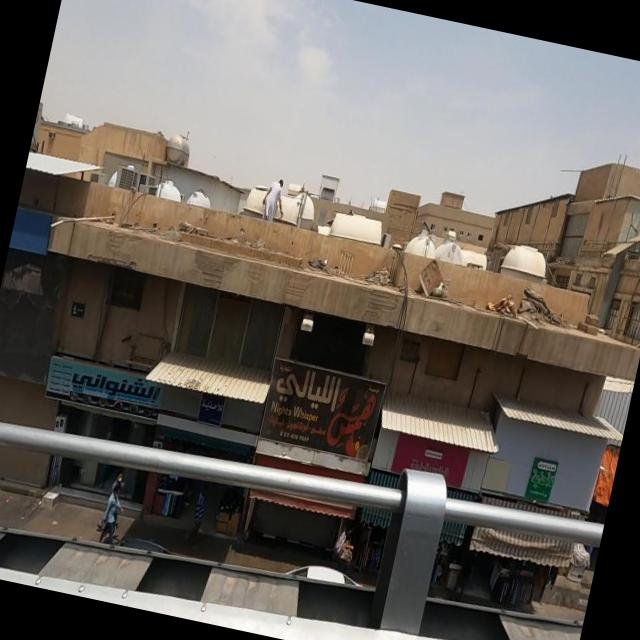debris: (487, 262, 590, 354), (339, 226, 418, 326), (144, 190, 228, 264), (466, 254, 530, 345), (281, 226, 345, 294), (398, 240, 452, 304), (33, 502, 76, 538)
